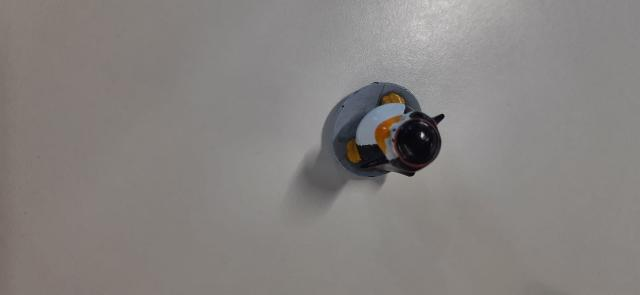Penguin: (317, 69, 451, 189)
